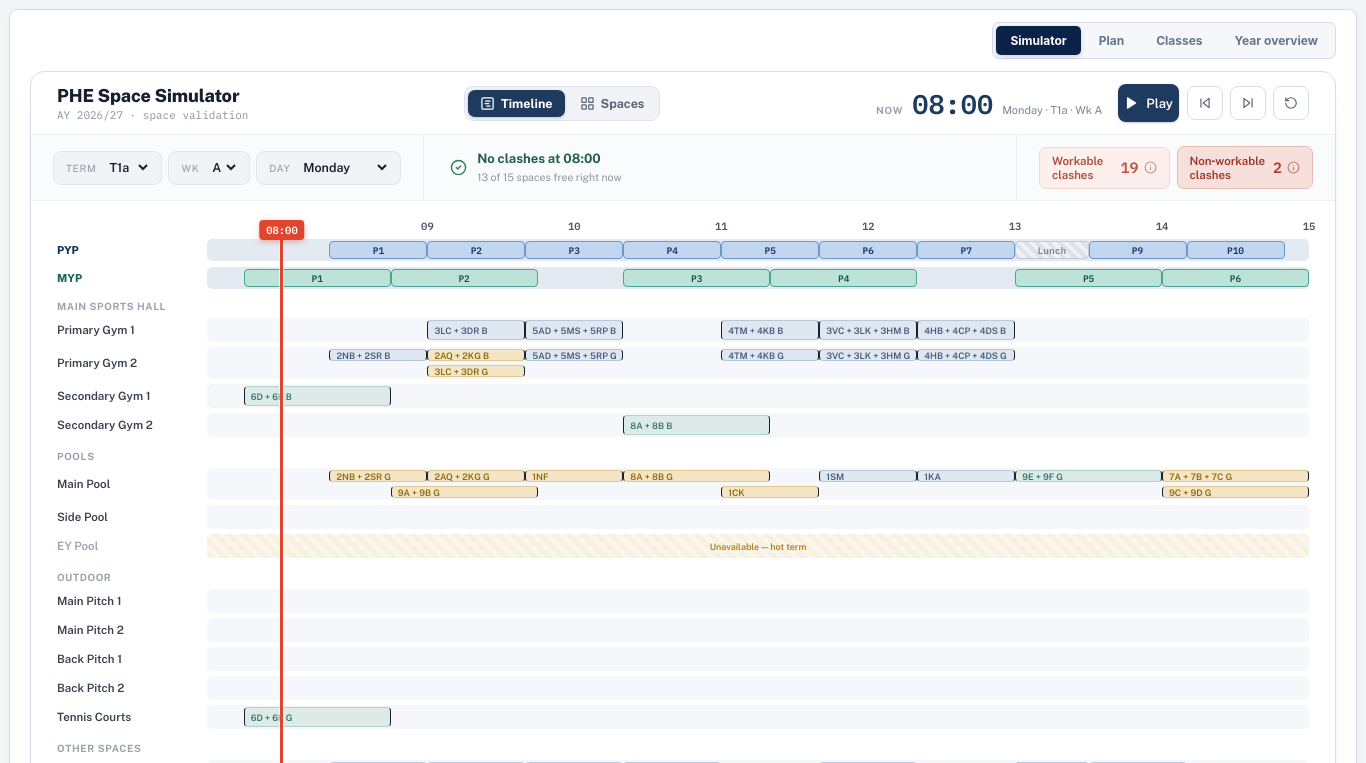
Scenario: PHE Space Simulator › changes term and steps through real timetable boundaries
Click the button named "Next timetable boundary" at (1248, 103), box [1230, 86, 1266, 120]
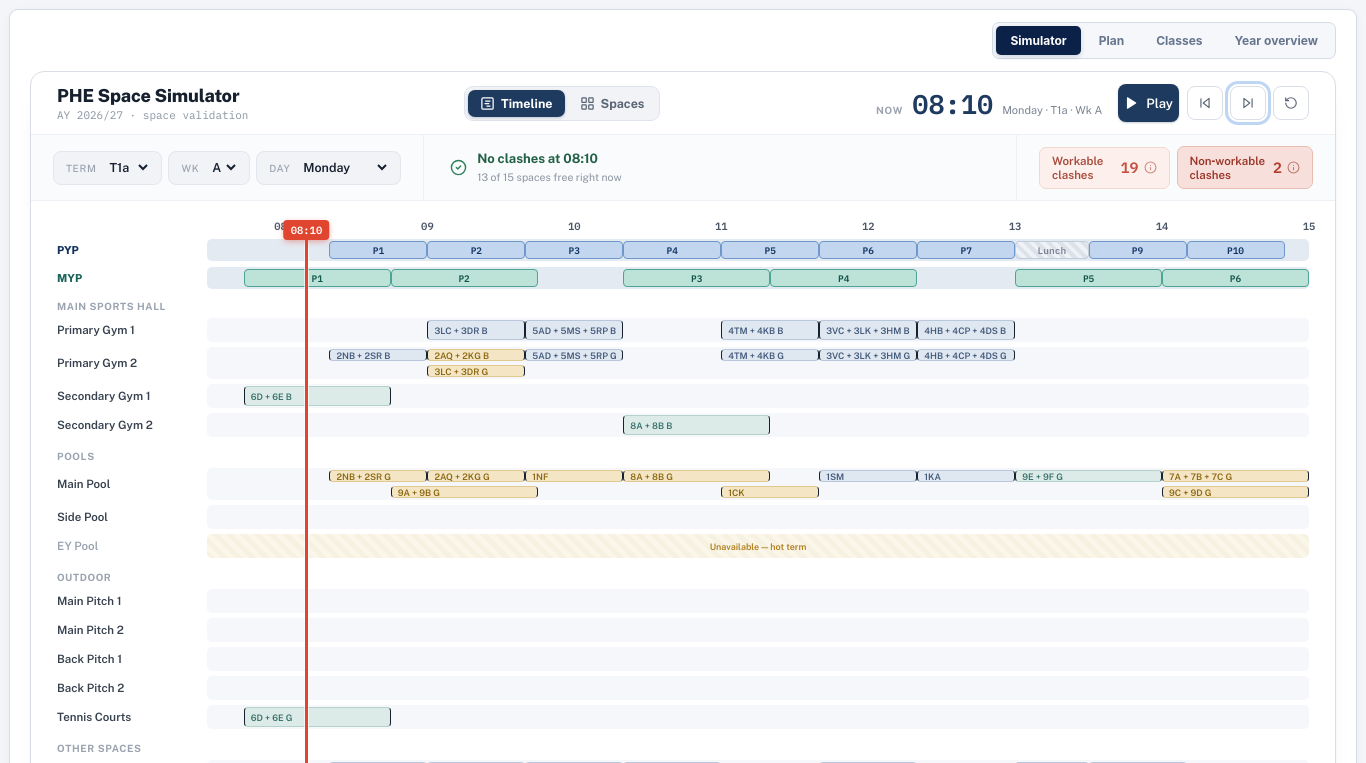
expect the text "08:10" is shown: met, box [912, 90, 993, 116]
